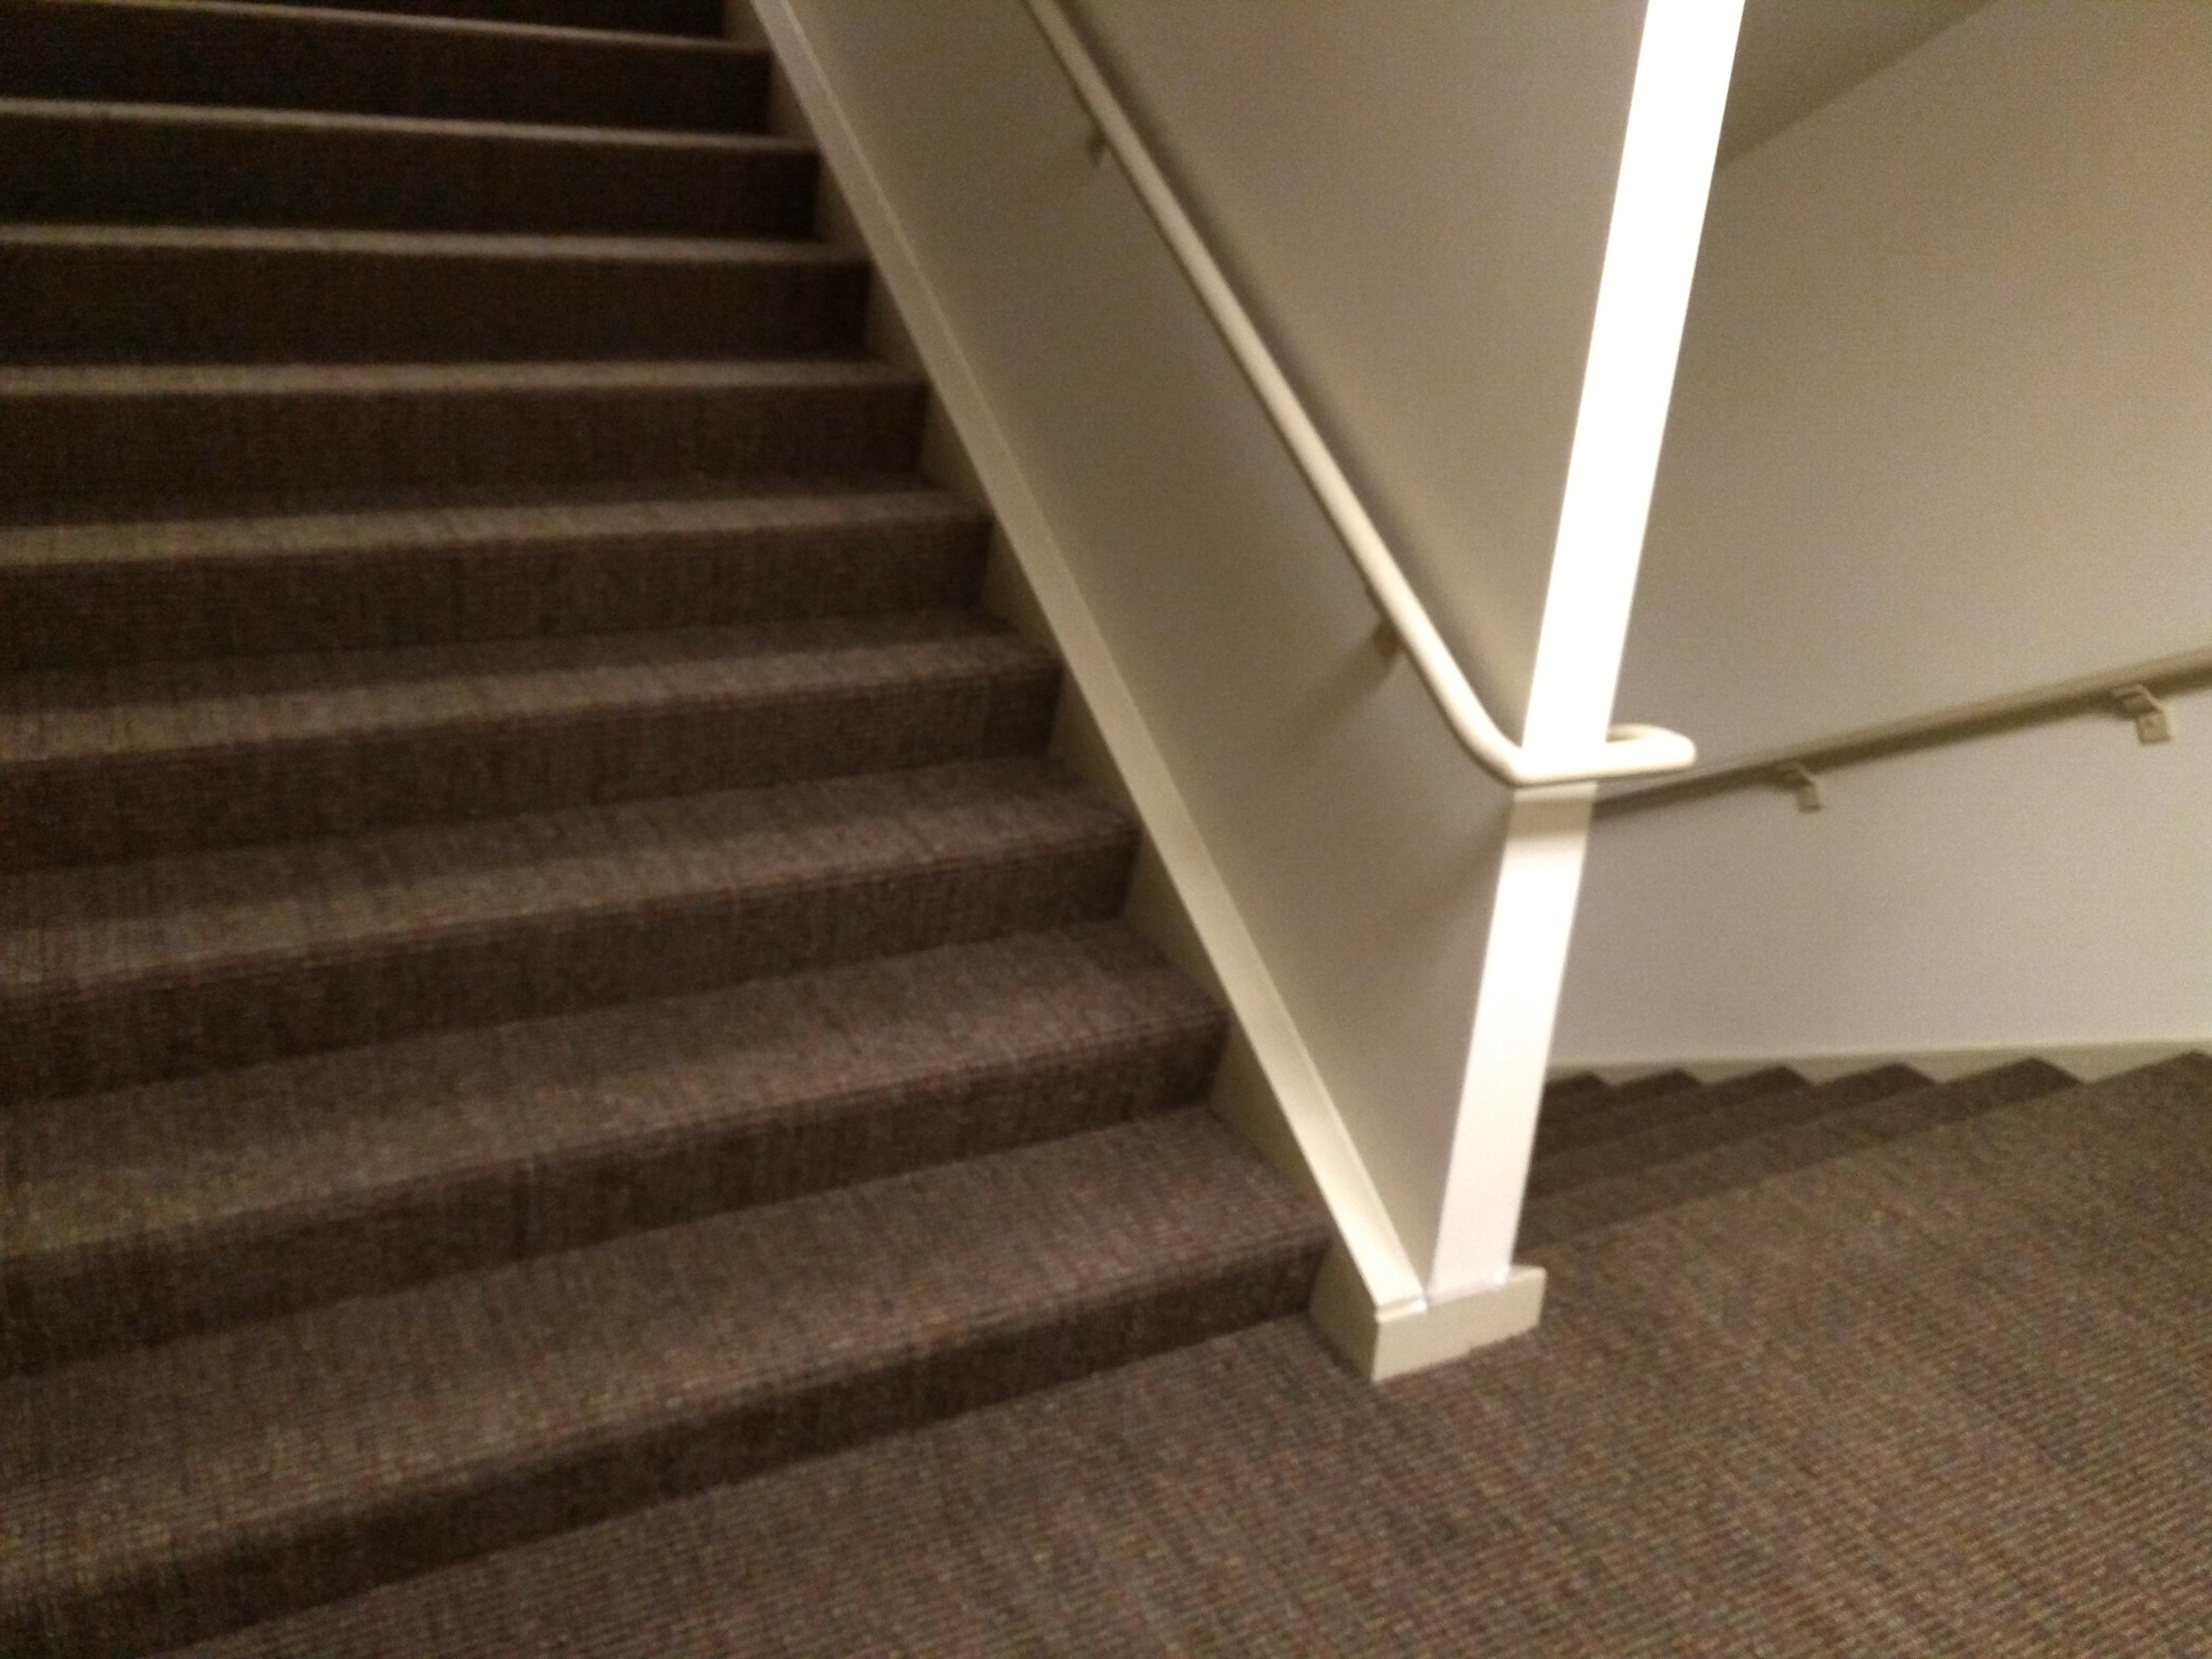stairs_down: (1453, 1053, 2195, 1300)
stairs_up: (2, 17, 1280, 1520)
